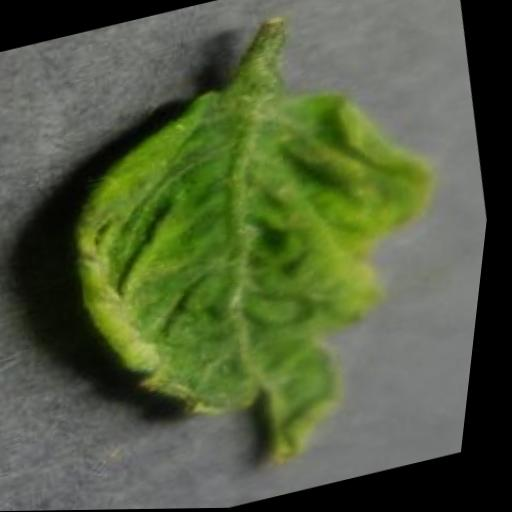Yellow Leaf Curl Virus: (23, 41, 506, 511)
